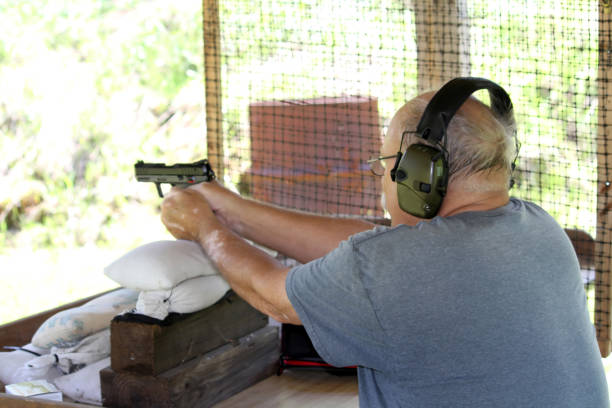gun: (133, 159, 216, 198)
